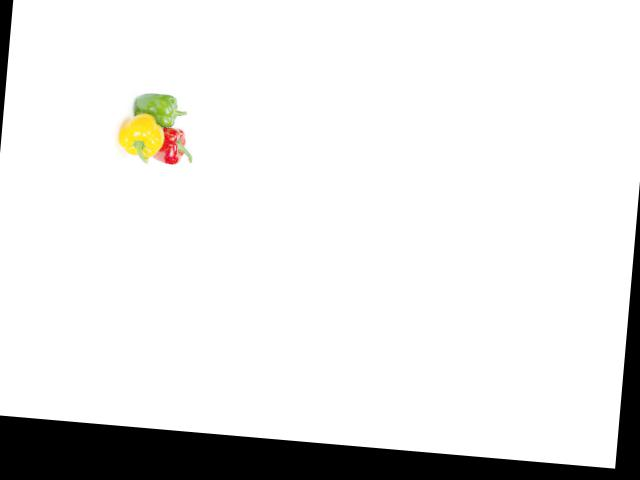bell_pepper: (145, 120, 199, 172)
